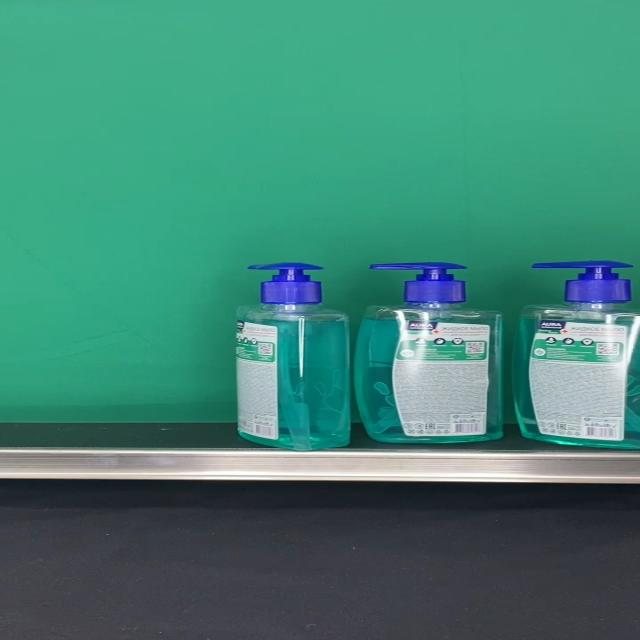Bottle: (356, 262, 504, 443), (517, 261, 640, 450), (235, 262, 351, 450)
Cap: (534, 261, 634, 303), (369, 262, 467, 304), (247, 262, 324, 304)
